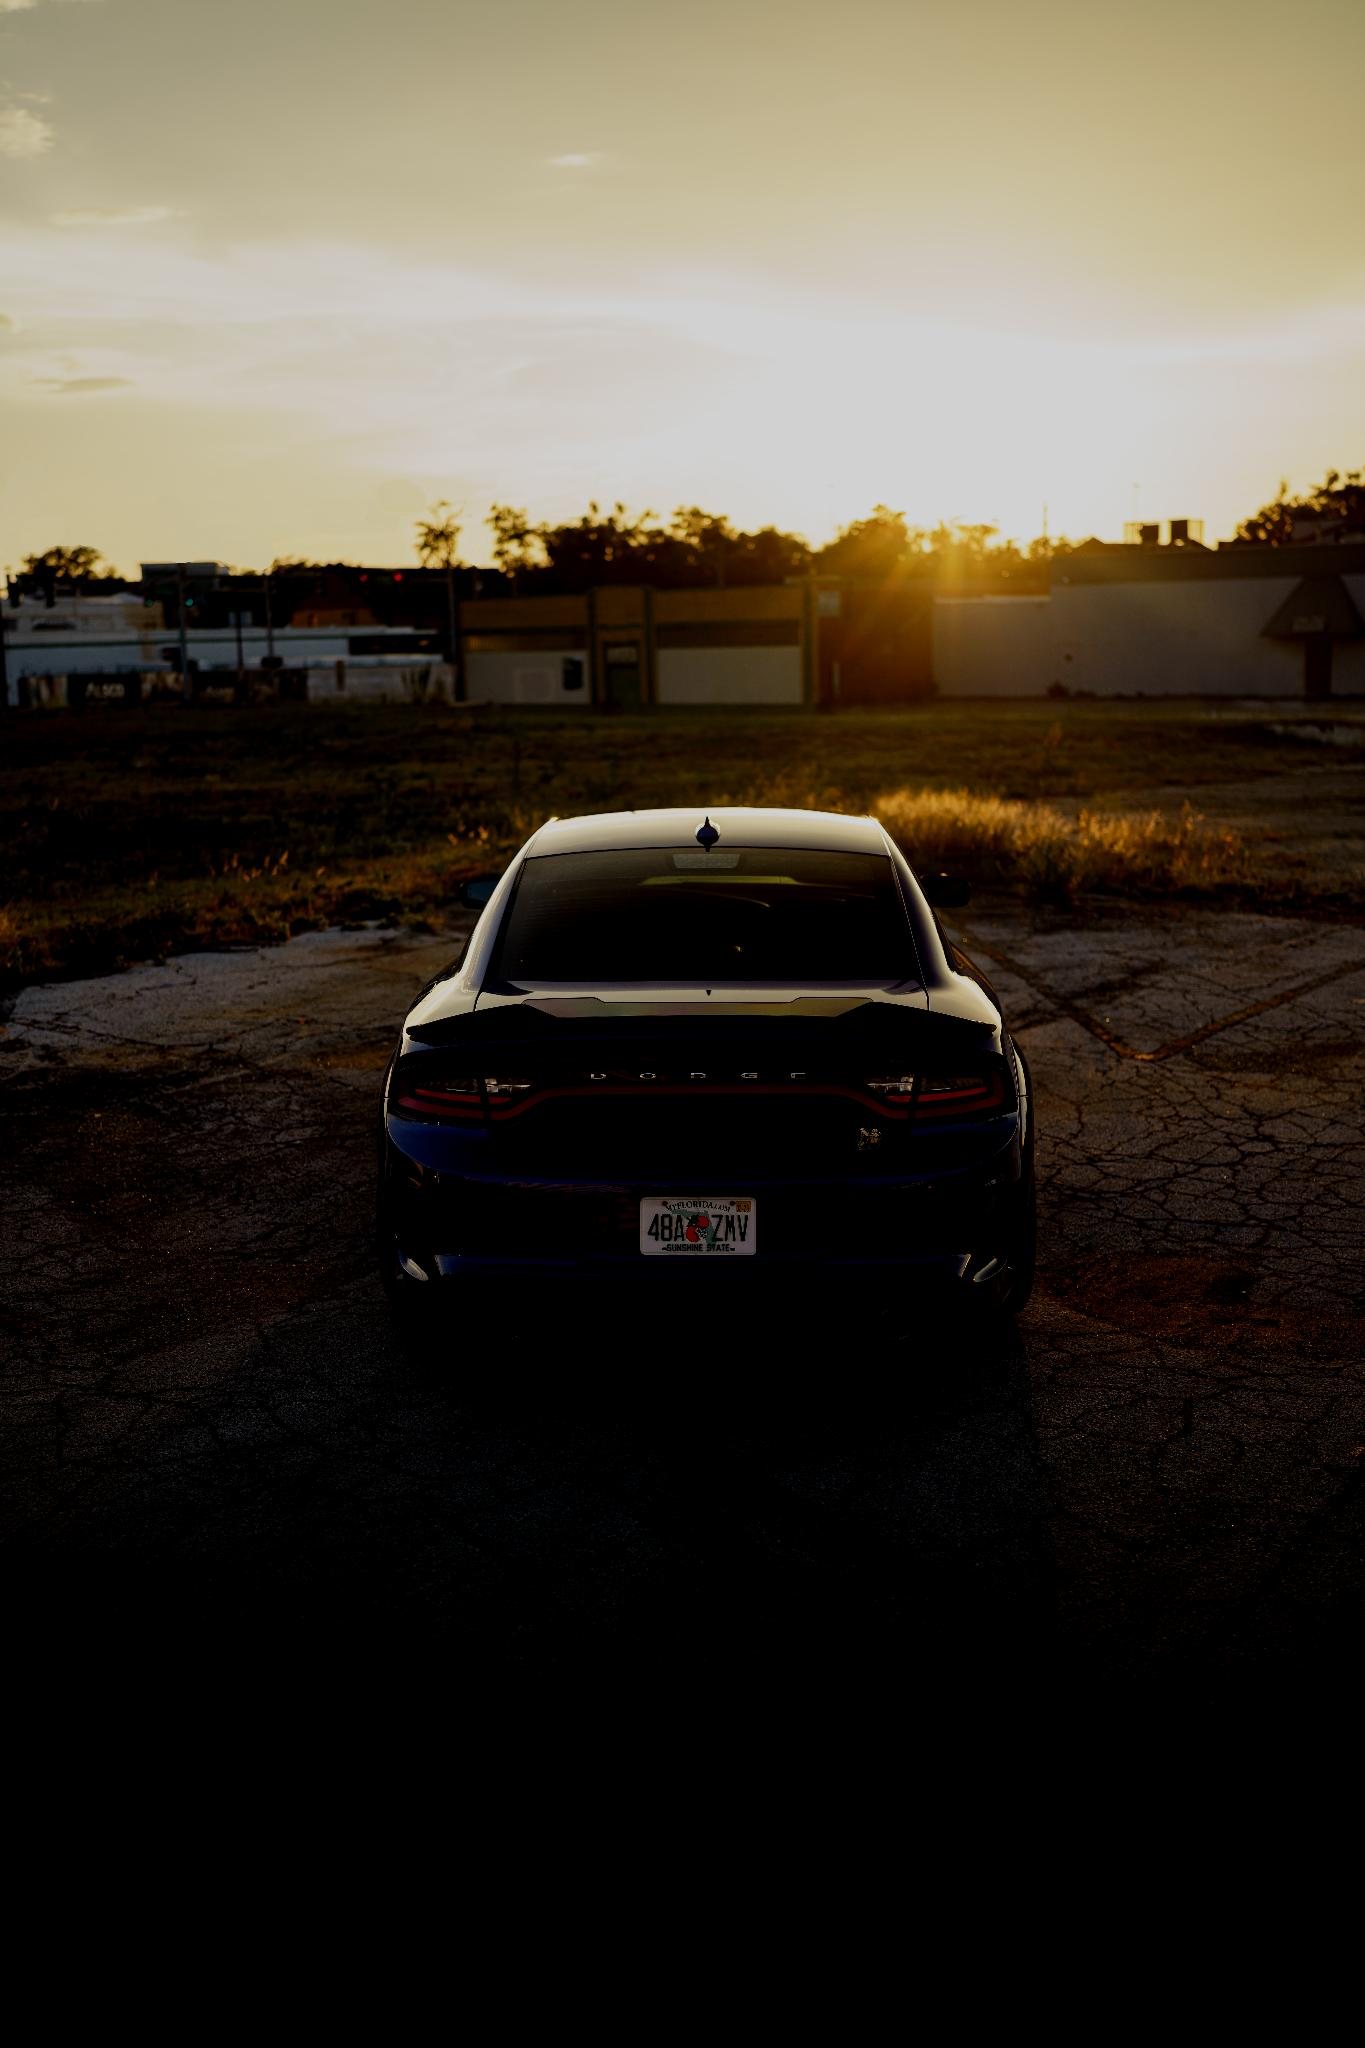dodge: (573, 1055, 815, 1101)
